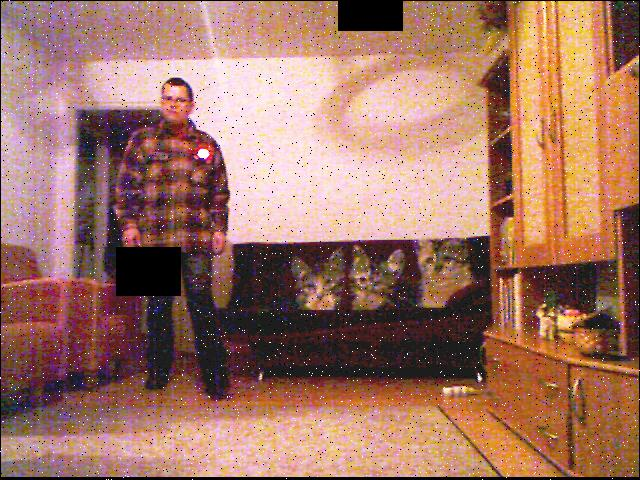walking: (113, 64, 236, 388)
